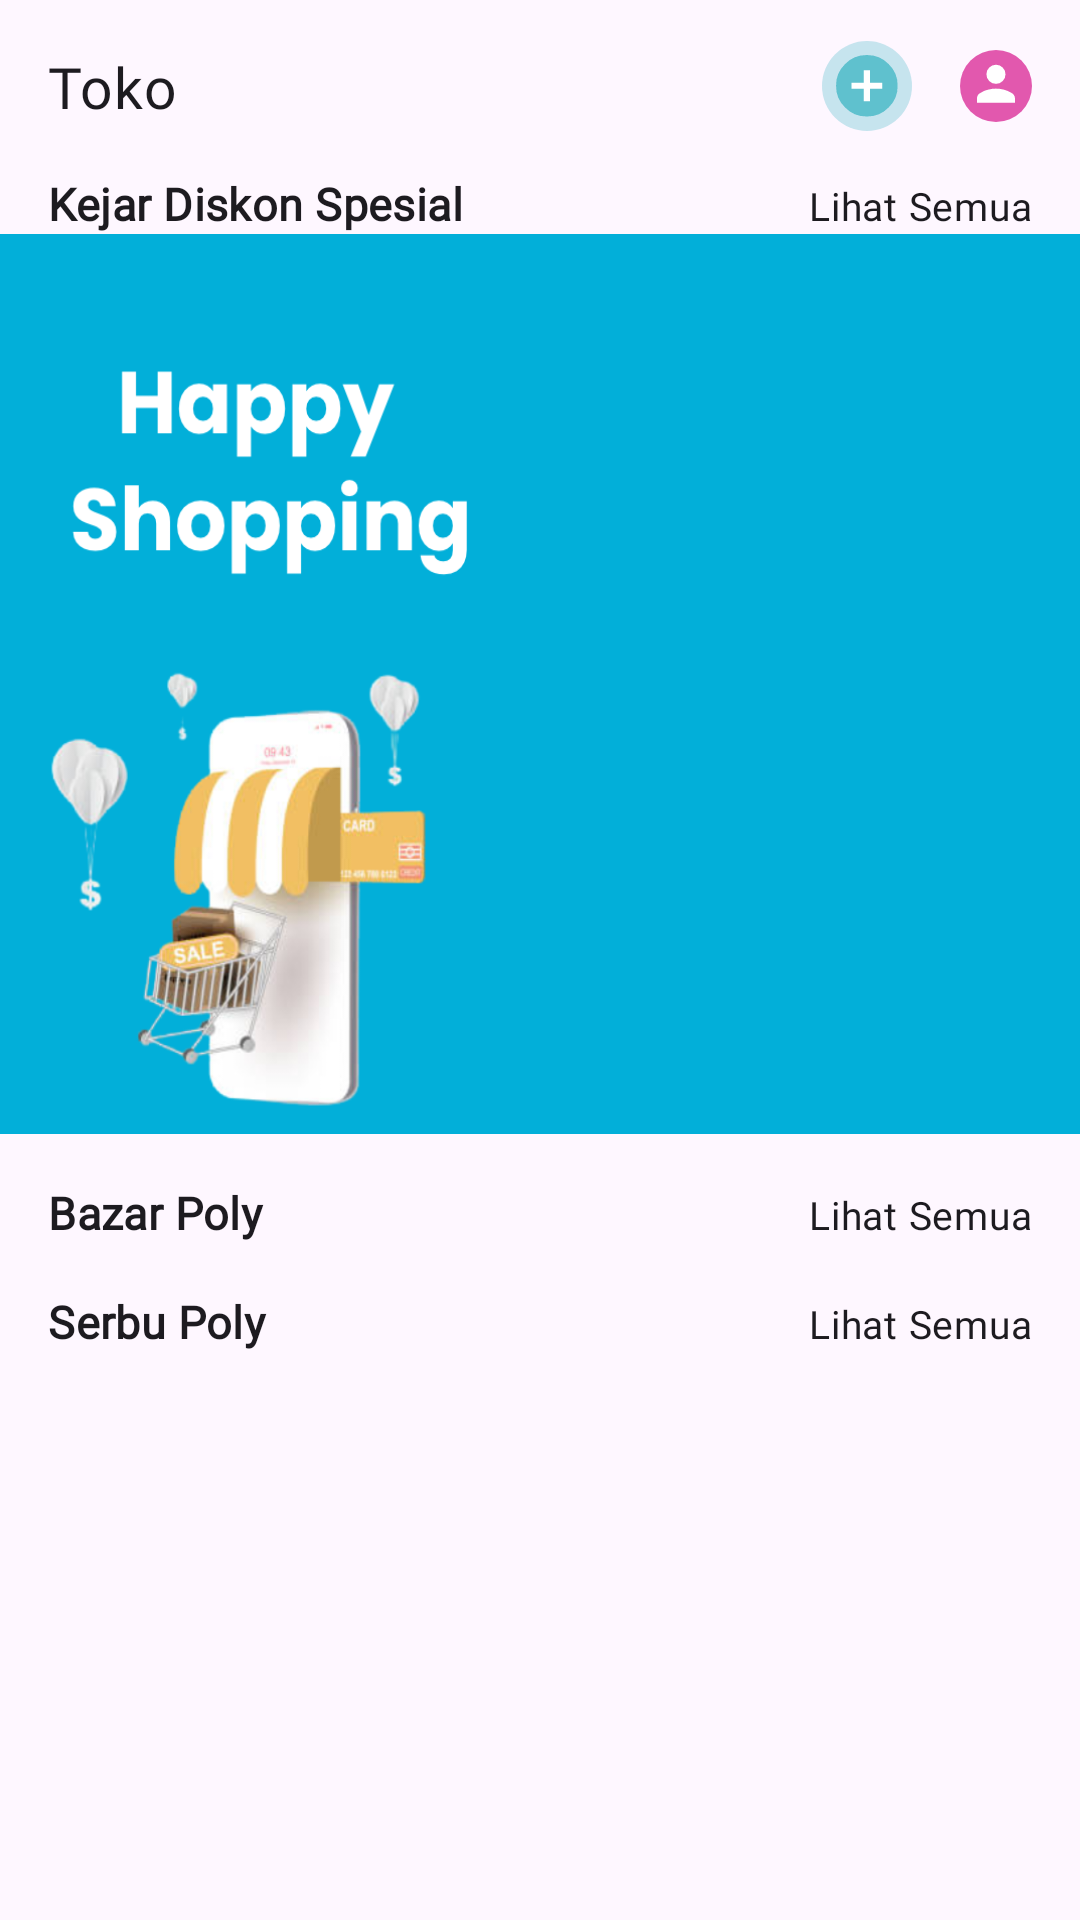

Icons on this 1080×1920 Android screen, each with its box as [left=x1, top=y1, right=x2, bottom=y2]:
Profile: [left=960, top=50, right=1032, bottom=122]
Tambah Product: [left=822, top=41, right=912, bottom=131]
